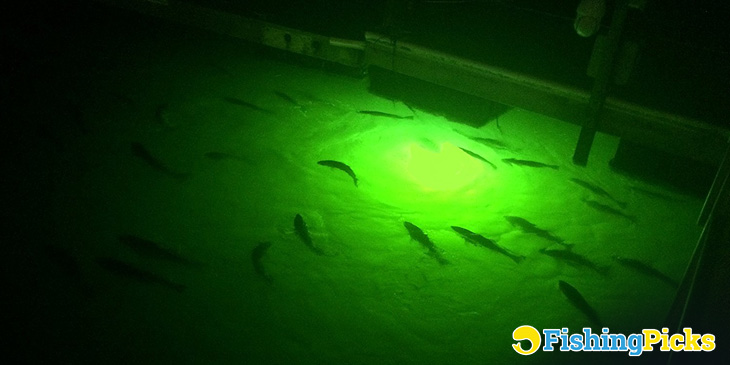fish: (448, 221, 528, 268), (287, 208, 336, 268), (402, 220, 453, 277), (311, 154, 360, 190)
